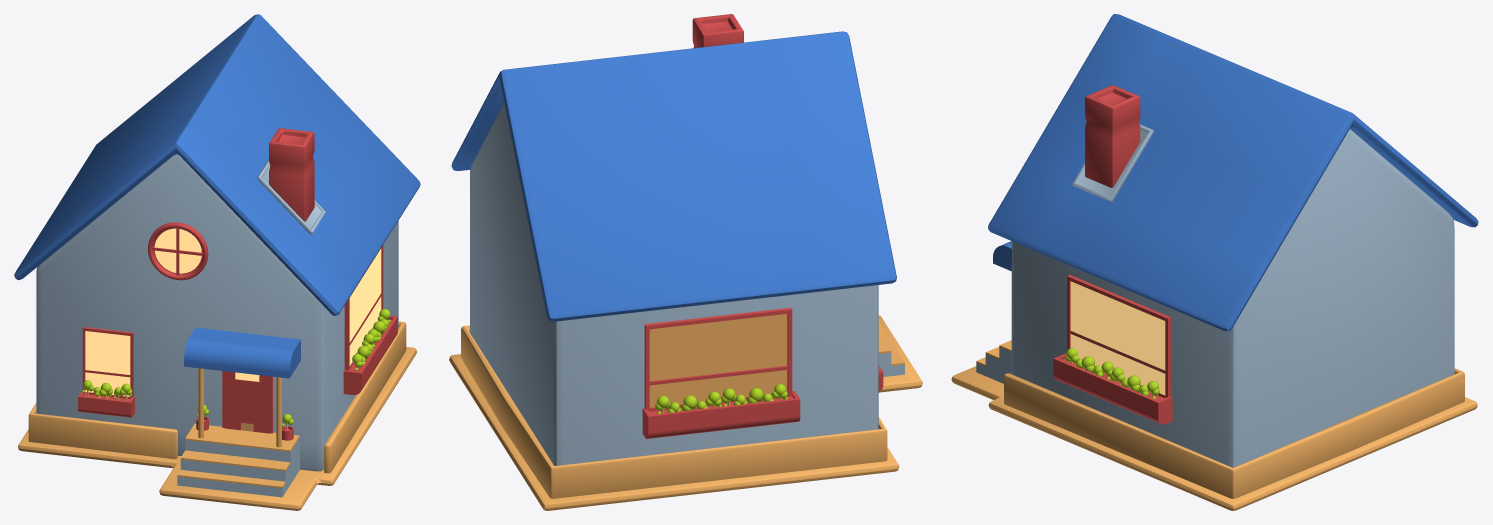
The model's file is house.glb.
3 views of the same model, side by side, from view 1: azimuth 30°, elevation 25°; view 2: azimuth 150°, elevation 25°; view 3: azimuth 270°, elevation 25° (orthographic). The views are drawn at different scales.
Parts seen in each view (by area): view 1: wall, roof, wall.001, ladder, floor, roof.001, window.002, window, chimney, door, window.003, grass.001 (+2 smaller); view 2: roof, wall, window.001, wall.001, floor, grass, chimney, ladder; view 3: wall, roof, wall.001, window, floor, chimney, grass.001, ladder.
Part boxes in pixels (<box>): wall: <box>36,154,398,471</box>; roof: <box>14,14,420,315</box>; wall.001: <box>28,321,406,473</box>; ladder: <box>177,423,299,497</box>; floor: <box>18,347,416,510</box>; roof.001: <box>184,327,300,378</box>; window.002: <box>78,327,134,417</box>; window: <box>343,245,397,394</box>; chimney: <box>269,128,314,221</box>; door: <box>222,371,272,433</box>; window.003: <box>148,222,208,280</box>; grass.001: <box>352,309,390,371</box>; roof: <box>451,31,896,321</box>; wall: <box>470,102,878,465</box>; window.001: <box>642,307,800,438</box>; wall.001: <box>461,325,887,498</box>; floor: <box>449,315,922,510</box>; grass: <box>655,384,787,413</box>; chimney: <box>692,14,743,48</box>; ladder: <box>878,321,904,376</box>; wall: <box>1011,129,1454,467</box>; roof: <box>988,14,1478,331</box>; wall.001: <box>1004,368,1464,498</box>; window: <box>1053,275,1172,424</box>; floor: <box>951,366,1477,510</box>; chimney: <box>1085,85,1140,187</box>; grass.001: <box>1064,348,1159,399</box>; ladder: <box>976,340,1011,383</box>.
Size of the model in its own units: 2.87 by 2.24 by 3.09.
